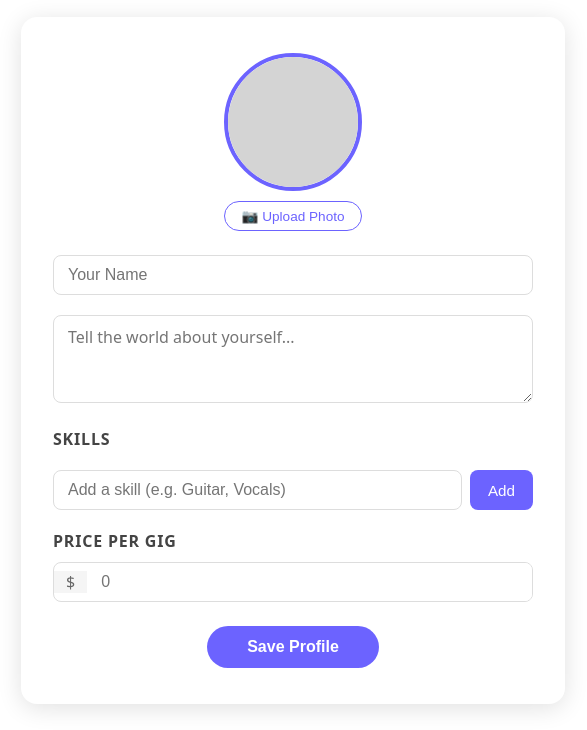
Test case: saves profile and displays view mode
Type "Jane Smith" into the field with placeholder "Your Name" at (293, 275), box [53,255,533,295]
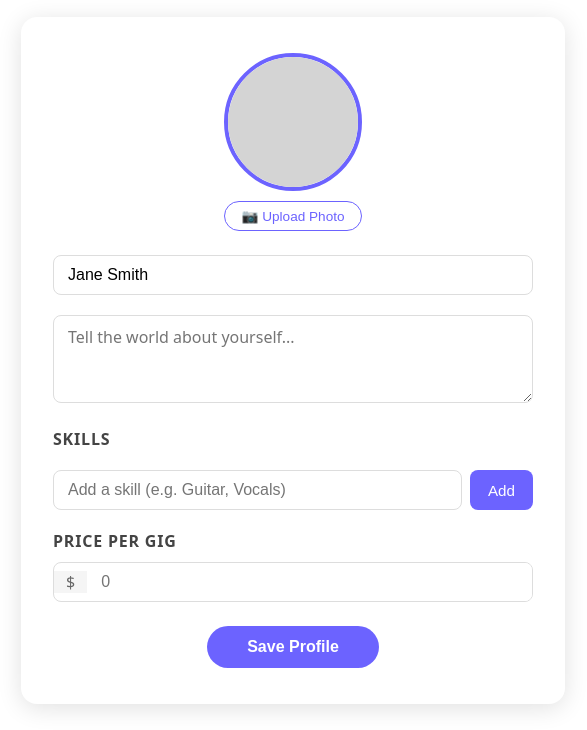
Click the button "Save Profile" at (293, 647), box [207,626,379,668]
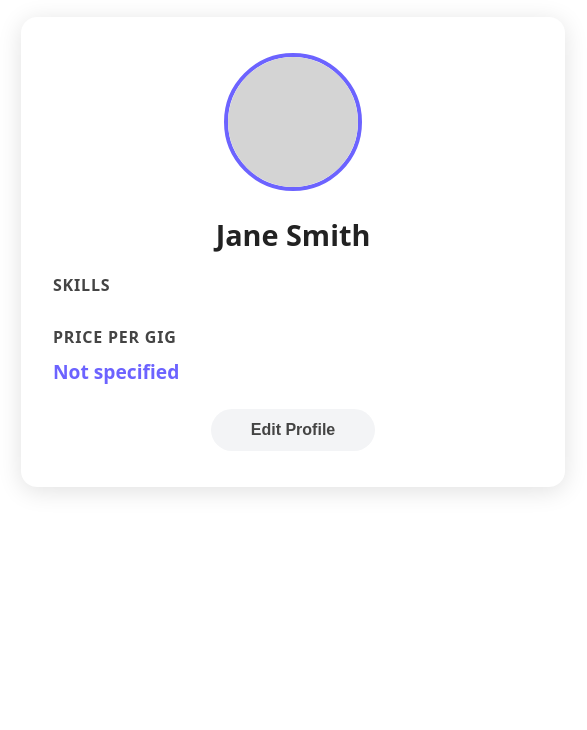
Expected: the heading "Jane Smith" is shown, [216,215,370,254]
Expected: the button "Edit Profile" is shown, [211,409,375,451]
